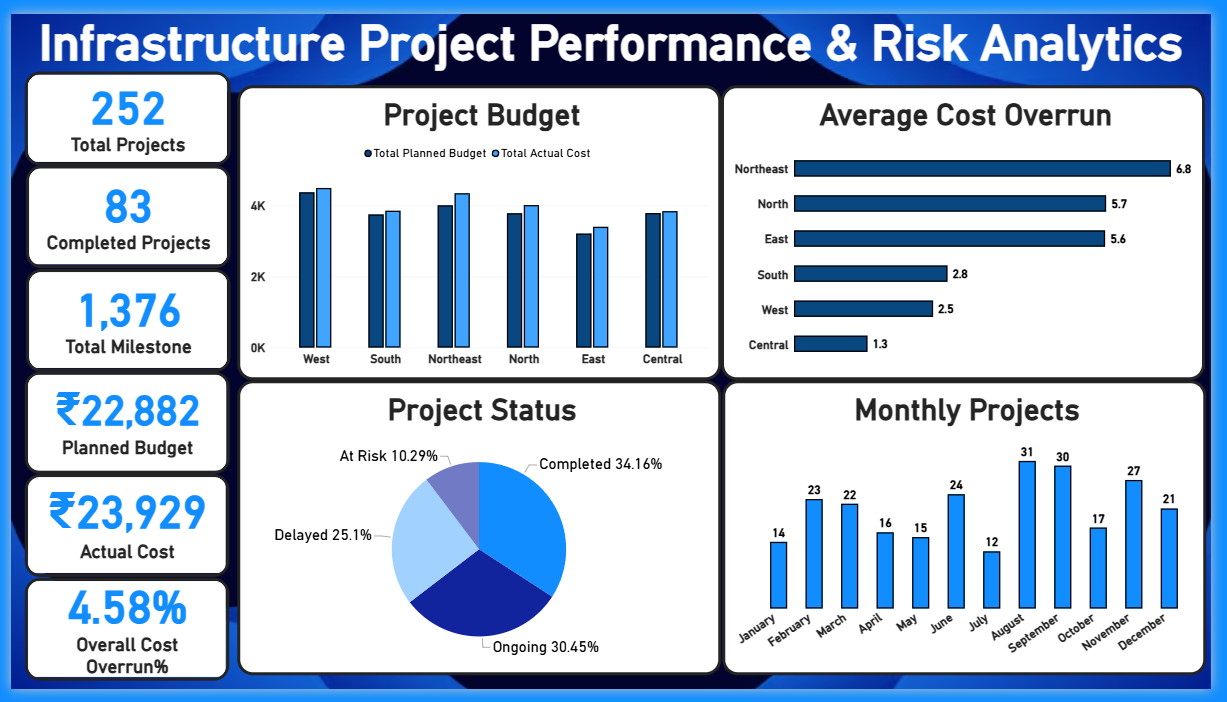

The dashboard page shown, as its layout file describes it:
{"tool":"powerbi","page":{"name":"Dashboard","canvas":[1920,1080],"ordinal":0},"visuals":[{"type":"textbox","box":[0,0,1920,228],"z":0},{"type":"clusteredColumnChart","title":"Project Budget","fields":{"Category":["Projects.Region"],"Y":["Sum(Projects.Planned_Budget_Cr)","Sum(Projects.Actual_Cost_Cr)"]},"box":[362,114,774,472],"z":1000},{"type":"cardVisual","fields":{"Data":["CountNonNull(Projects.Project_ID)"]},"box":[21.7,92.3,329.4,150.2],"z":2000},{"type":"clusteredBarChart","title":"Average Cost Overrun","fields":{"Category":["Projects.Region"],"Y":["Avg(Projects.Cost_Overrun)"]},"box":[1136,114,774,472],"z":3000},{"type":"columnChart","title":"Monthly Projects","fields":{"Category":["Projects.Planned_End_Date.Variation.Date Hierarchy.Month"],"Y":["CountNonNull(Projects.Project_ID)"]},"box":[1138,586,774,472],"z":4000},{"type":"cardVisual","fields":{"Data":["ProjectMilestones.Total Milestone"]},"box":[23.5,407.2,327.5,164.7],"z":5000},{"type":"cardVisual","fields":{"Data":["Projects.Actual Cost"]},"box":[21.7,736.5,327.5,164.7],"z":6000},{"type":"pieChart","title":"Project Status","fields":{"Category":["Projects.Status"],"Y":["CountNonNull(Projects.Project_ID)"]},"box":[361.9,586.3,774,472],"z":7000},{"type":"cardVisual","fields":{"Data":["CountNonNull(Projects.Project_ID)"]},"box":[23.5,242.5,327.5,164.7],"z":8000},{"type":"cardVisual","fields":{"Data":["Projects.Planned Budget"]},"box":[22,572,328,164],"z":9000},{"type":"cardVisual","fields":{"Data":["Projects.Measure"]},"box":[21.7,901.2,327.5,164.7],"z":10000}]}

Visuals, with their boxes in screenshot pixels (x1, y1, x2, y2), scaled from the page's 1920x1080 canvas onto the 1227x702 screenshot:
textbox: pyautogui.locateOnScreen(0, 0, 1226, 148)
"Project Budget" clusteredColumnChart: pyautogui.locateOnScreen(231, 74, 726, 381)
cardVisual - CountNonNull(Projects.Project_ID): pyautogui.locateOnScreen(14, 60, 224, 158)
"Average Cost Overrun" clusteredBarChart: pyautogui.locateOnScreen(726, 74, 1221, 381)
"Monthly Projects" columnChart: pyautogui.locateOnScreen(727, 381, 1222, 688)
cardVisual - ProjectMilestones.Total Milestone: pyautogui.locateOnScreen(15, 265, 224, 372)
cardVisual - Projects.Actual Cost: pyautogui.locateOnScreen(14, 479, 223, 586)
"Project Status" pieChart: pyautogui.locateOnScreen(231, 381, 726, 688)
cardVisual - CountNonNull(Projects.Project_ID): pyautogui.locateOnScreen(15, 158, 224, 265)
cardVisual - Projects.Planned Budget: pyautogui.locateOnScreen(14, 372, 224, 478)
cardVisual - Projects.Measure: pyautogui.locateOnScreen(14, 586, 223, 693)
